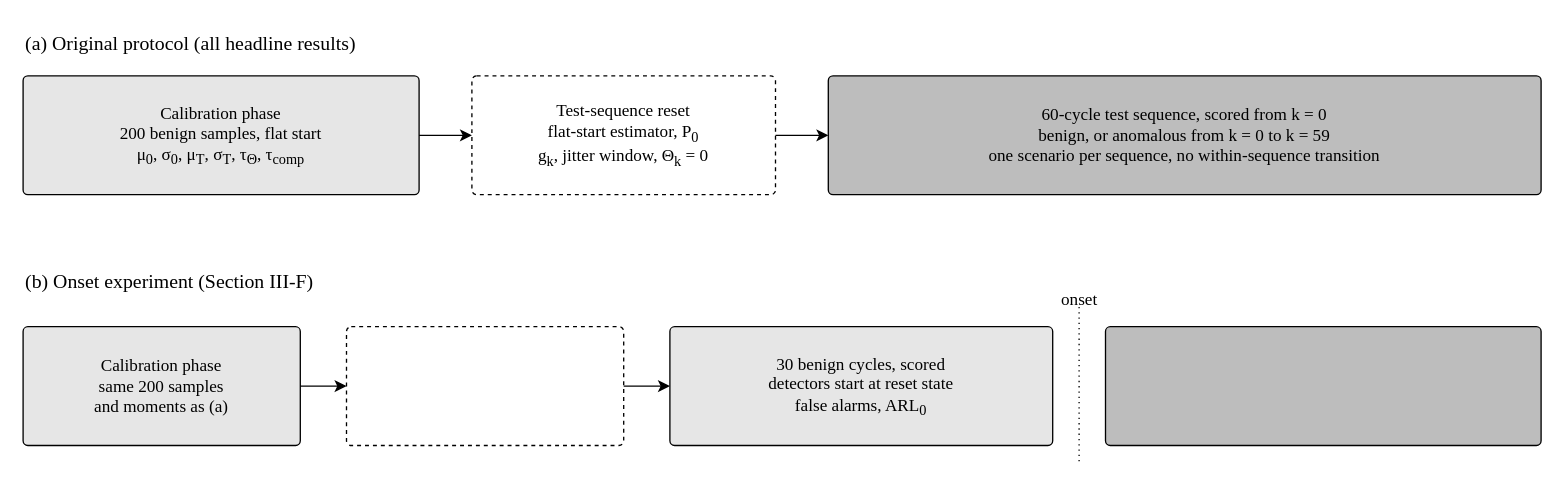
The diagram is 1564 pixels wide and 490 high, and some of its shapes have lost their labels. Each missing label, with the box of its shape:
30 anomalous cycles, scored one class and one tier delay, P d , ARL 1 , recall: (1104, 325, 1541, 446)
Reset, then 30-cycle warm-up (estimator only, not scored): (345, 325, 624, 446)
